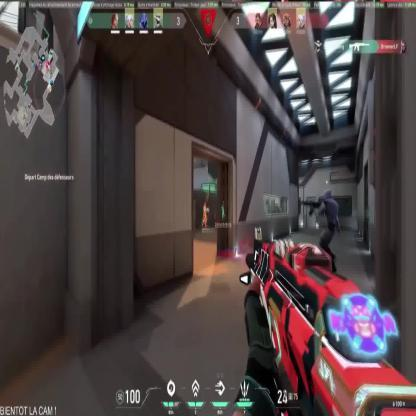enemy: (201, 200, 208, 228)
enemy_head: (204, 202, 206, 208)
